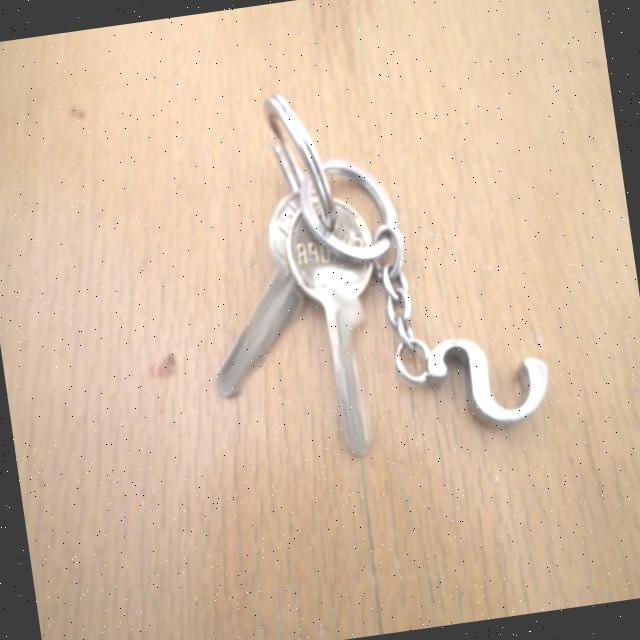Frontdoor keys: (192, 182, 402, 472)
